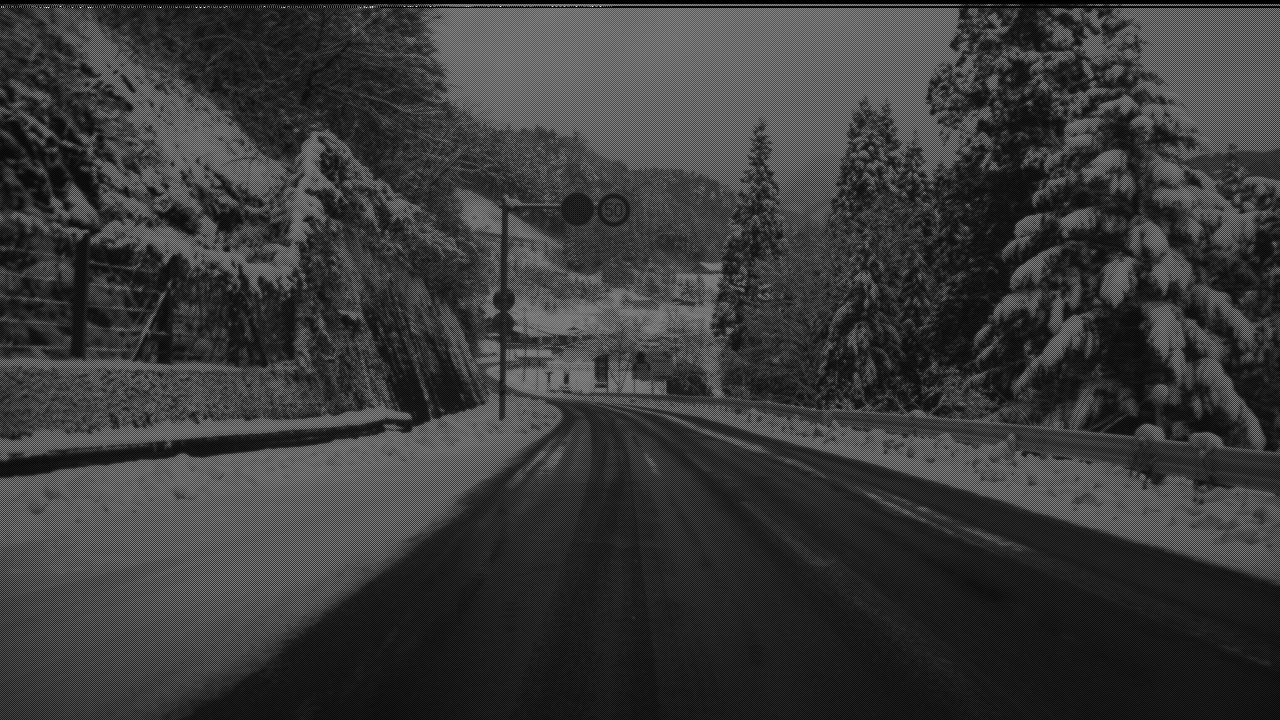pole: (497, 183, 508, 413)
